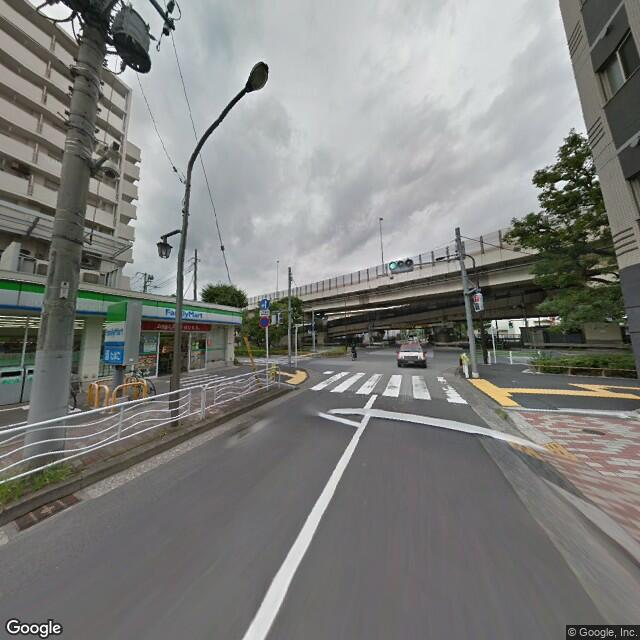family_mart: (71, 290, 244, 331)
